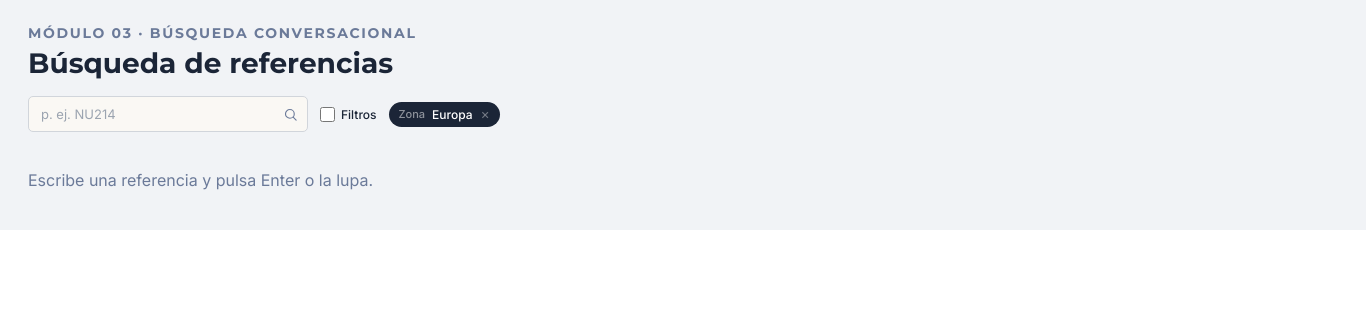
Scenario: fase A · lista previa › busca con la zona por defecto y pinta las claves en el orden de la RPC
Type "6204" into the search field named "Referencia" at (168, 114), box [28,96,308,132]
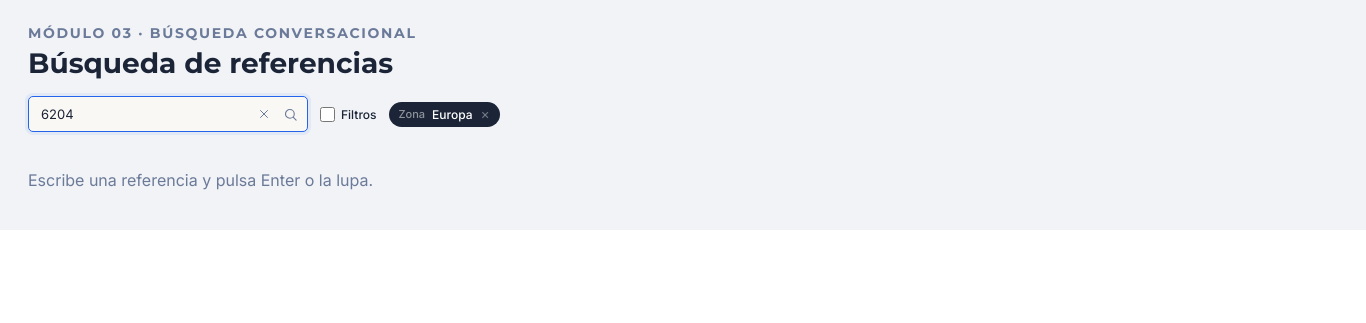
Click the button named "Buscar referencia" at (290, 114), box [276,100,304,128]
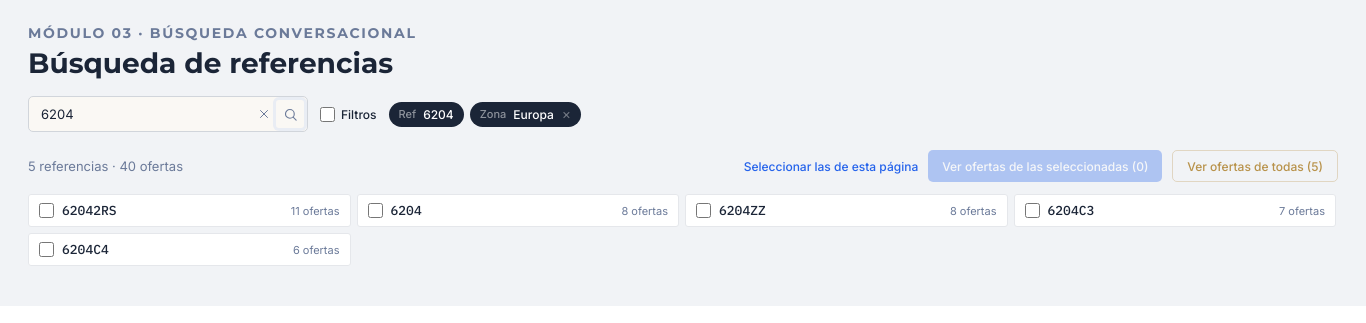
Check: the text "5 referencias · 40 ofertas" is shown, box [28,158,183,174]
